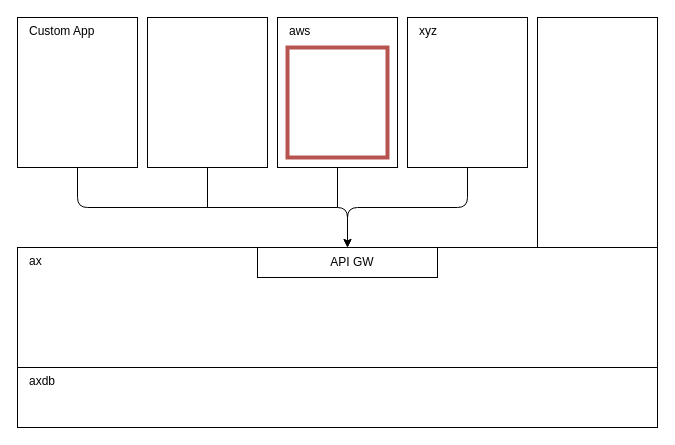
The diagram is 675 pixels wide and 445 high, and some of its shapes have lost their labels. Each missing label, with the box of its shape:
AWS Pharos Collector: (285, 45, 389, 159)
axw: (536, 16, 658, 248)
k8s: (146, 16, 268, 168)
